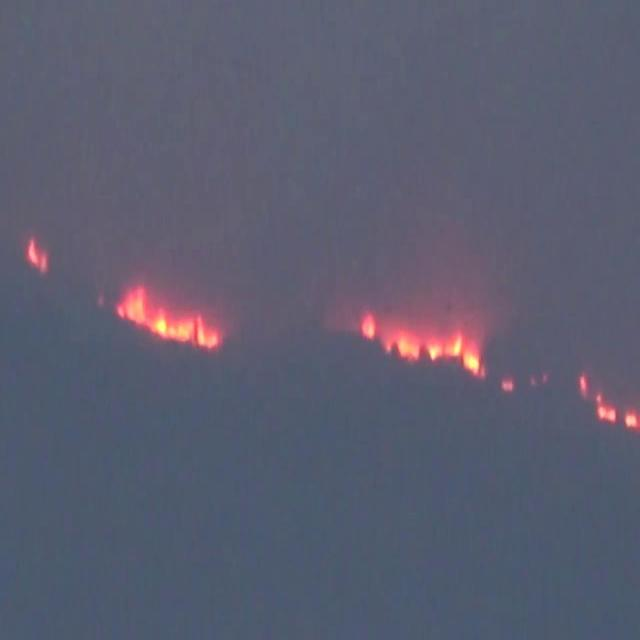Fire: (364, 319, 480, 376), (116, 286, 220, 348), (578, 374, 638, 427), (25, 234, 47, 272)
